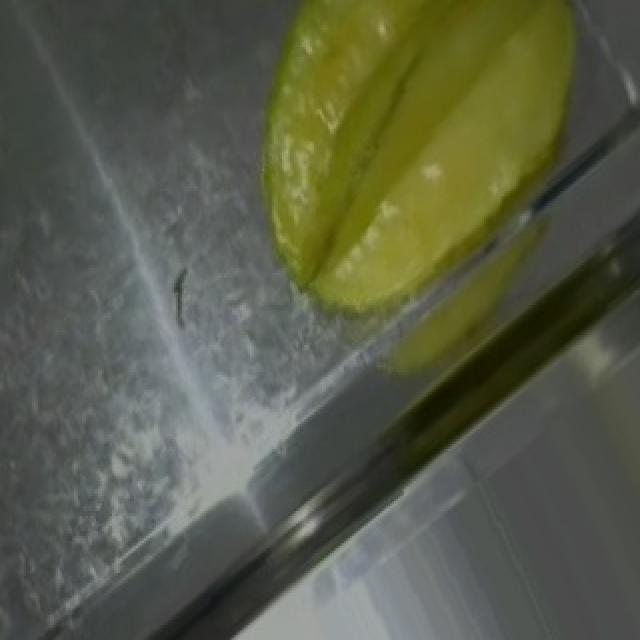fruit: (170, 0, 640, 377)
